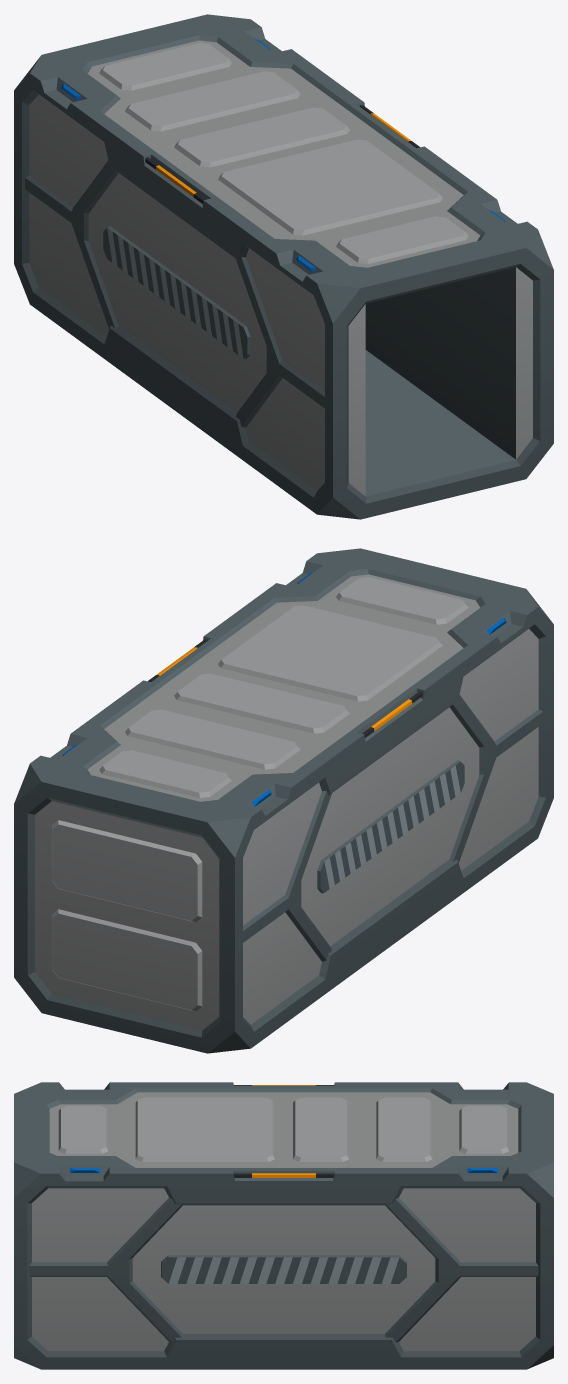
Rendered from Container_type_A_008.fbx.
3 renders of one model, top to bottom at view 1: azimuth 30°, elevation 25°; view 2: azimuth 150°, elevation 25°; view 3: azimuth 270°, elevation 25°, orthographic. The views are drawn at different scales.
Parts seen in each view (by area): view 1: Container_type_A_008; view 2: Container_type_A_008; view 3: Container_type_A_008.
Part boxes in pixels (left/top/right/bottom): Container_type_A_008: left=14, top=14, right=553, bottom=519; Container_type_A_008: left=14, top=548, right=553, bottom=1053; Container_type_A_008: left=14, top=1082, right=553, bottom=1369.
Bounding box in the file's own units: 240 × 600 × 241.
